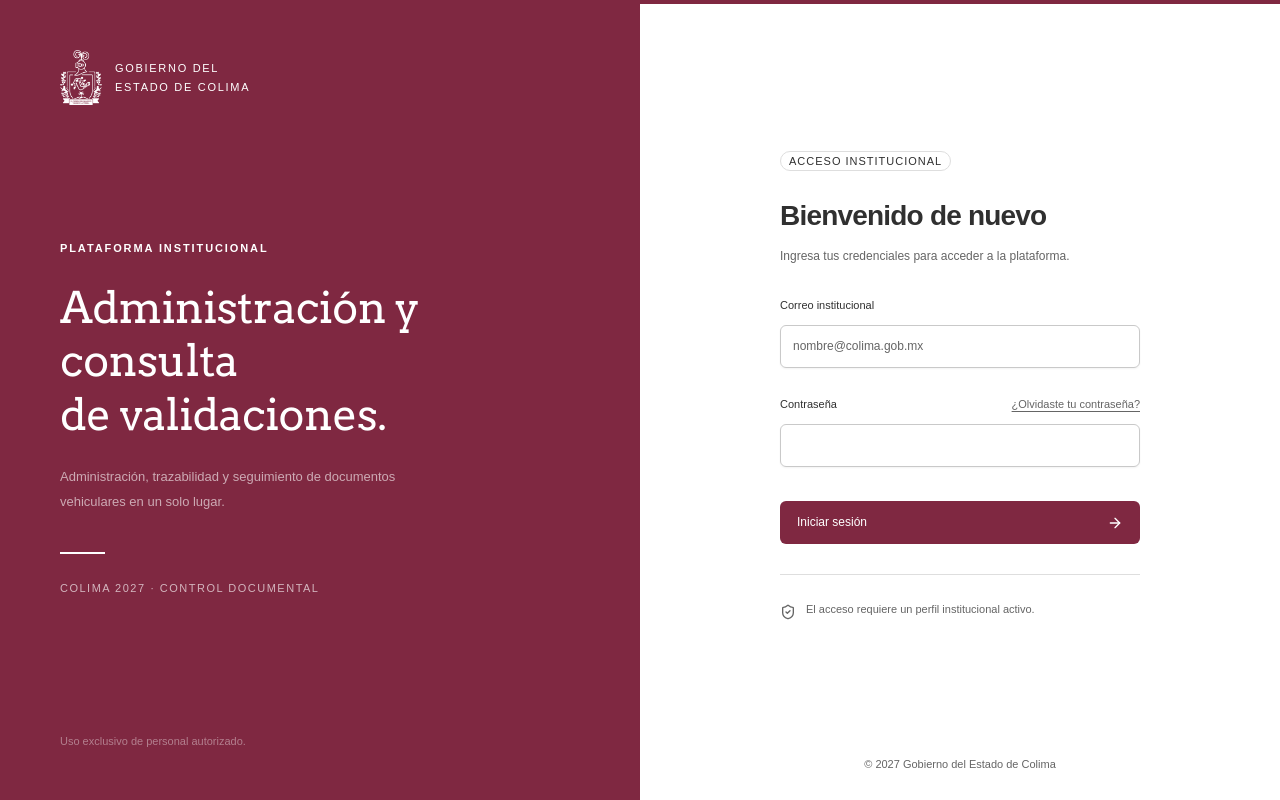
Test: institutional UI › validates credentials before contacting authentication
Click the button "Iniciar sesión".
click(832, 522)  # box [780, 501, 1140, 544]
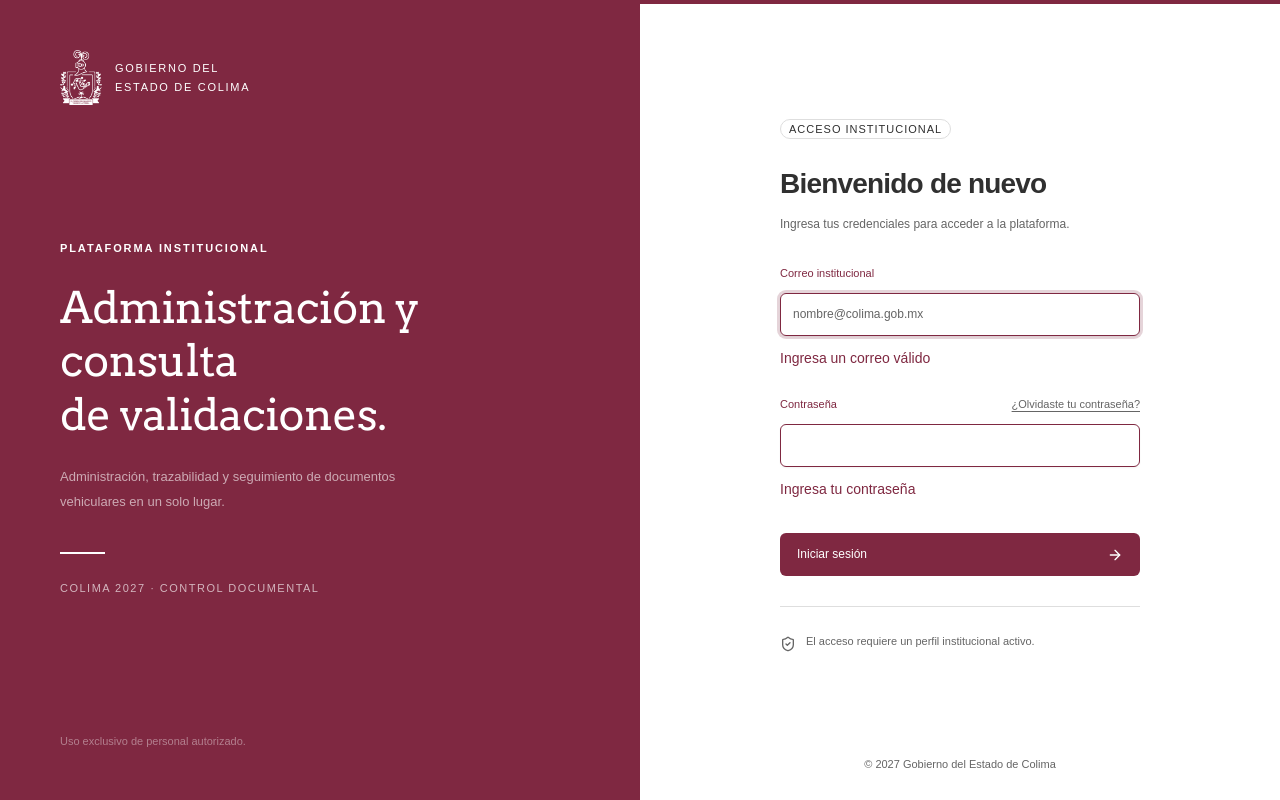
Check: the text "Ingresa un correo válido" is shown, box [780, 350, 930, 366]
